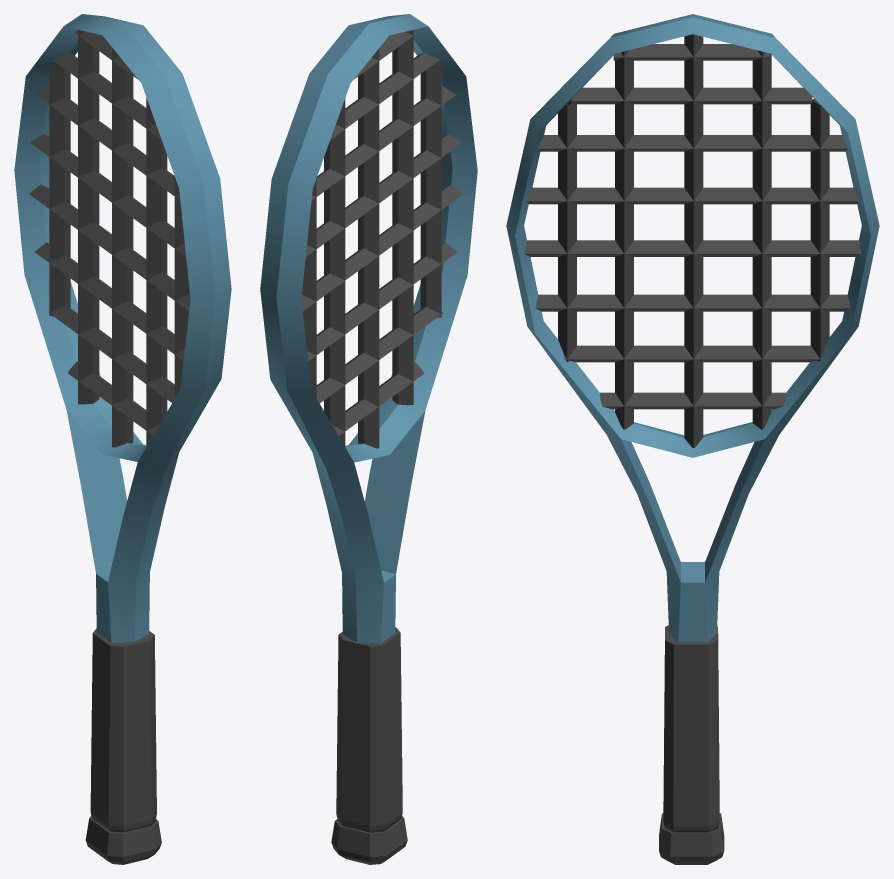
File: Raquette_Bleue.fbx
The picture shows the model from 3 angles, left to right: view 1: azimuth 30°, elevation 25°; view 2: azimuth 150°, elevation 25°; view 3: azimuth 270°, elevation 25°; orthographic projection.
Visible parts, largest first — view 1: Raquette_Bleue; view 2: Raquette_Bleue; view 3: Raquette_Bleue.
Part boxes in pixels (x1,y1,x2,y2): Raquette_Bleue: [14, 14, 231, 864]; Raquette_Bleue: [260, 14, 477, 864]; Raquette_Bleue: [506, 14, 879, 864].
Size of the model in its own units: 6.79 by 97.67 by 39.43.
Materials: 1 (1 with a texture image).
